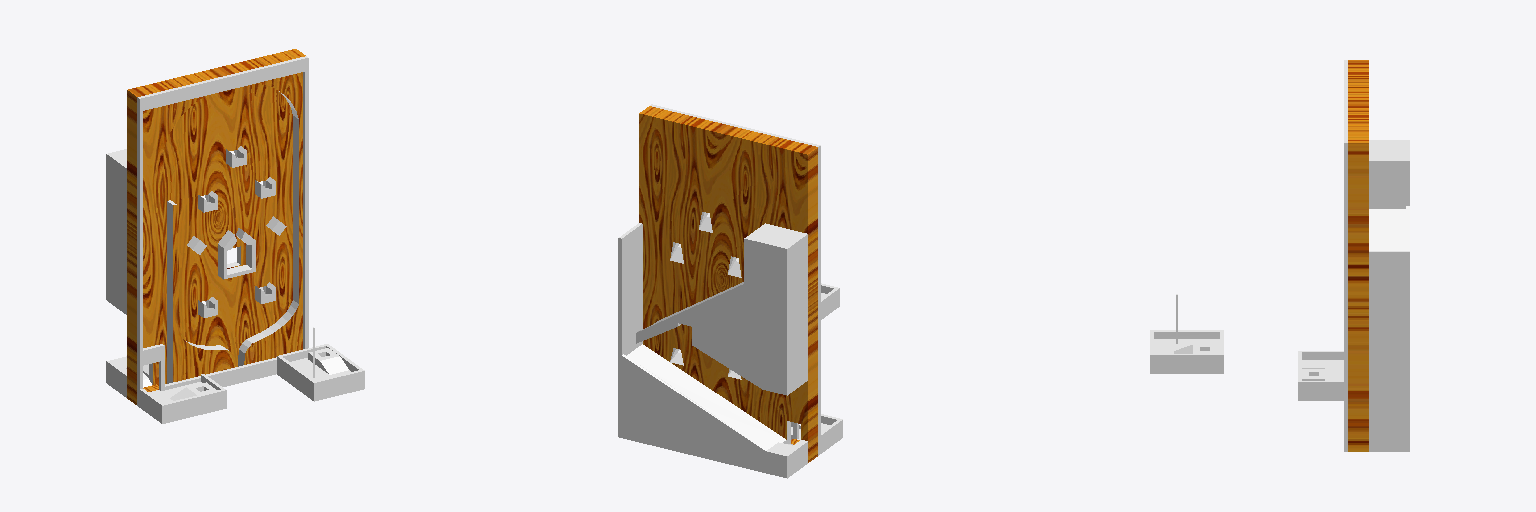
3 views of the same model, side by side, from view 1: azimuth 30°, elevation 25°; view 2: azimuth 150°, elevation 25°; view 3: azimuth 270°, elevation 25° (orthographic).
Visible parts, largest first — view 1: n5b3_n5b3.001; view 2: n5b3_n5b3.001; view 3: n5b3_n5b3.001.
Part boxes in pixels (left/top/right/bottom): n5b3_n5b3.001: left=106, top=49, right=364, bottom=423; n5b3_n5b3.001: left=618, top=104, right=842, bottom=478; n5b3_n5b3.001: left=1150, top=60, right=1409, bottom=451.
Bounding box in the file's own units: 4.69 × 8.19 × 6.25.
3 materials, 1 textured.